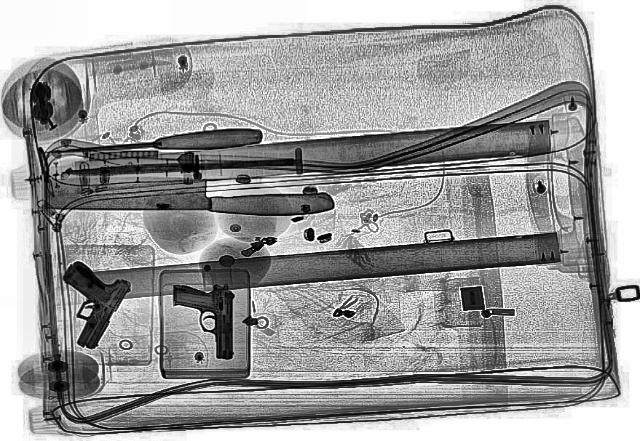Gun: (26, 258, 140, 350), (170, 284, 237, 360)
Knife: (42, 176, 334, 216), (40, 127, 262, 159), (65, 156, 295, 176)
